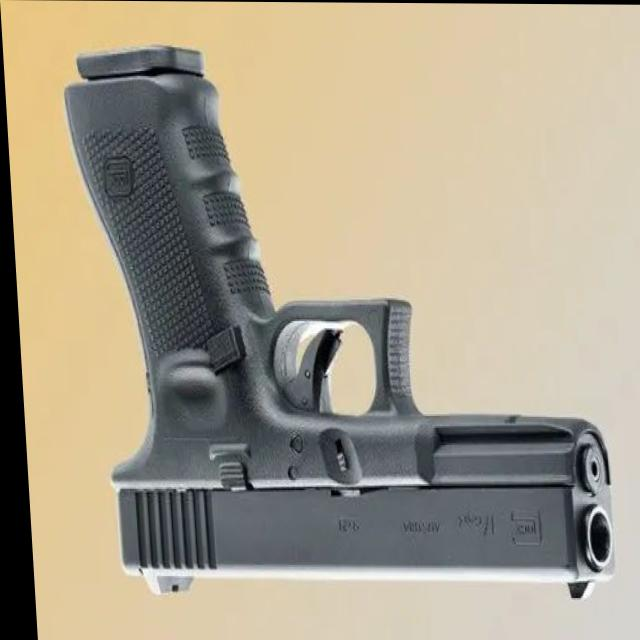handgun: (42, 44, 624, 609)
